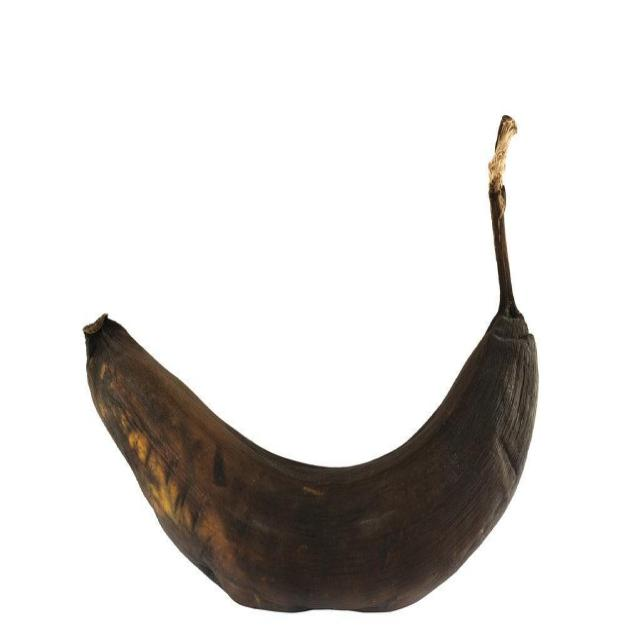organic: (81, 117, 541, 615)
